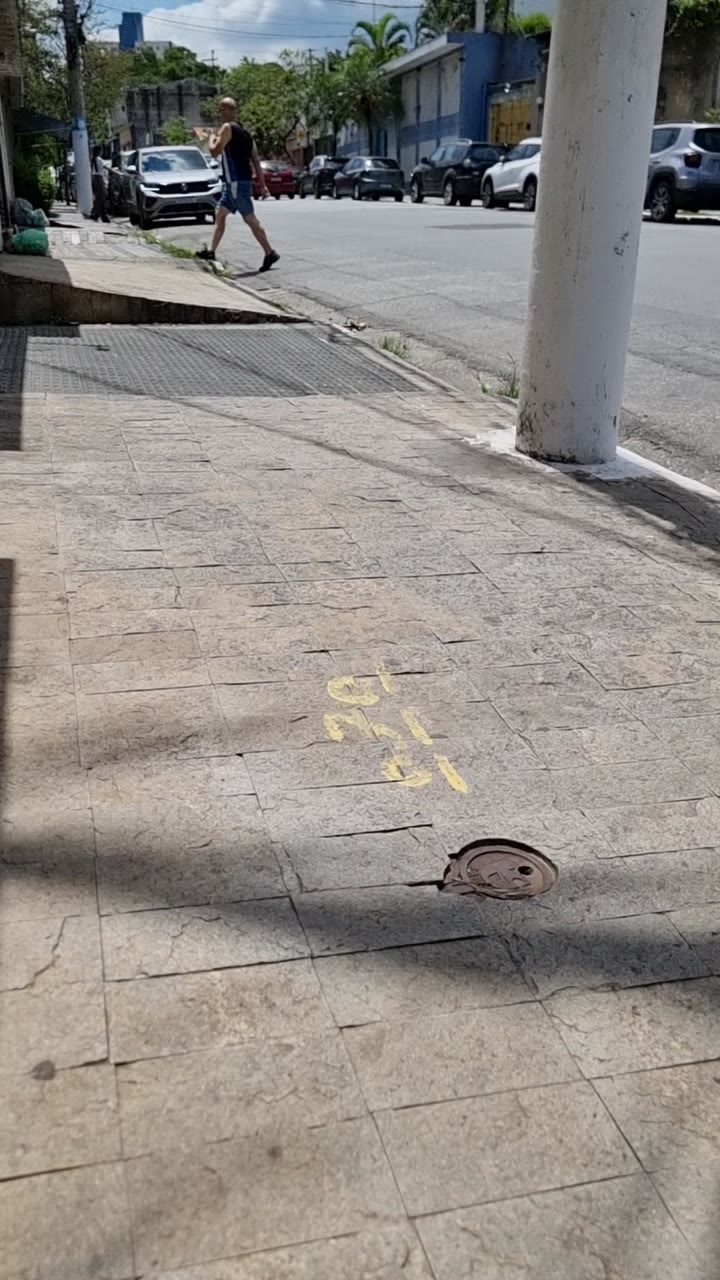desnivel: (0, 269, 540, 358)
obstaculo: (526, 0, 619, 397)
